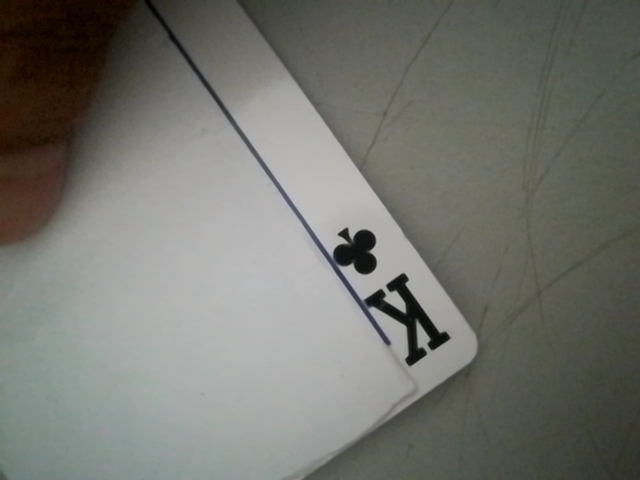mh k: (311, 209, 467, 379)
